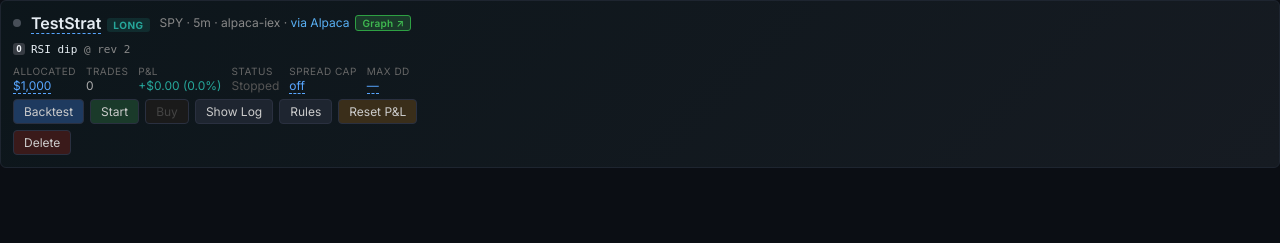
BotCard Rules button (F454) › cancels a load still on its way when closed
The image size is (1280, 243).
Click the button with test id "botcard-rules-btn" at {"x": 306, "y": 112}, box 279,99 -> 332,124
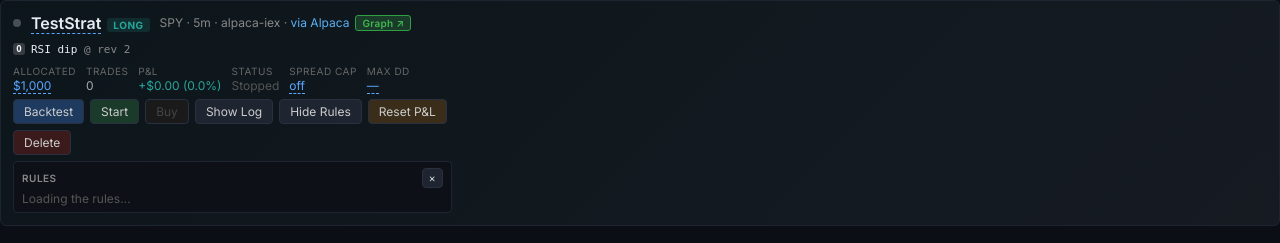
Now the text "Loading the rules…" is shown, box 22,191 -> 130,206
Click the button named "Close rules" at {"x": 432, "y": 178}, box 422,168 -> 443,188
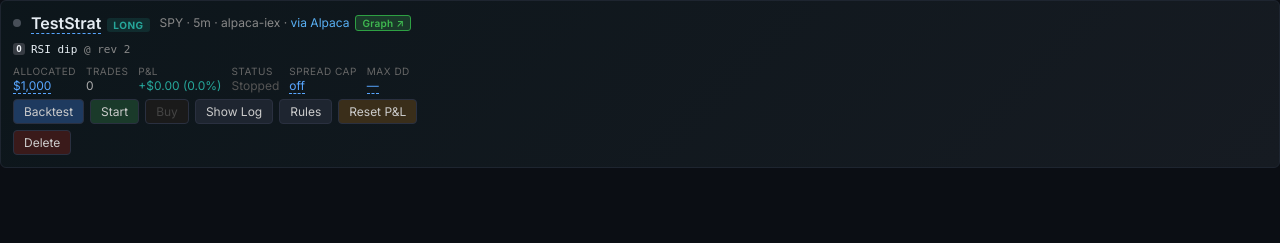
Now the element with test id "botcard-rules" is gone
